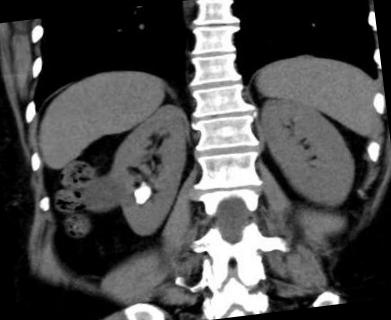Tas_Var: (130, 183, 154, 206), (140, 180, 146, 186)
